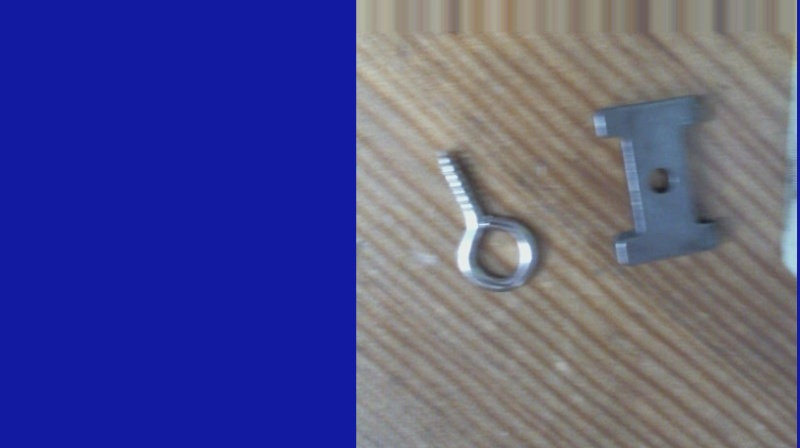O001: (430, 137, 542, 298)
O002: (591, 88, 725, 269)
